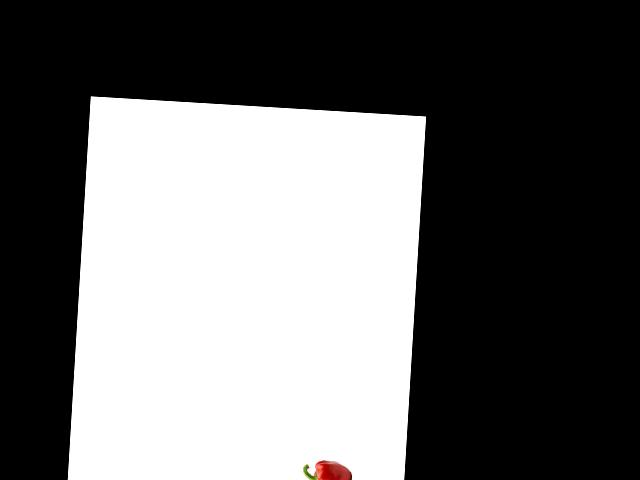bell_pepper: (300, 456, 354, 480)
